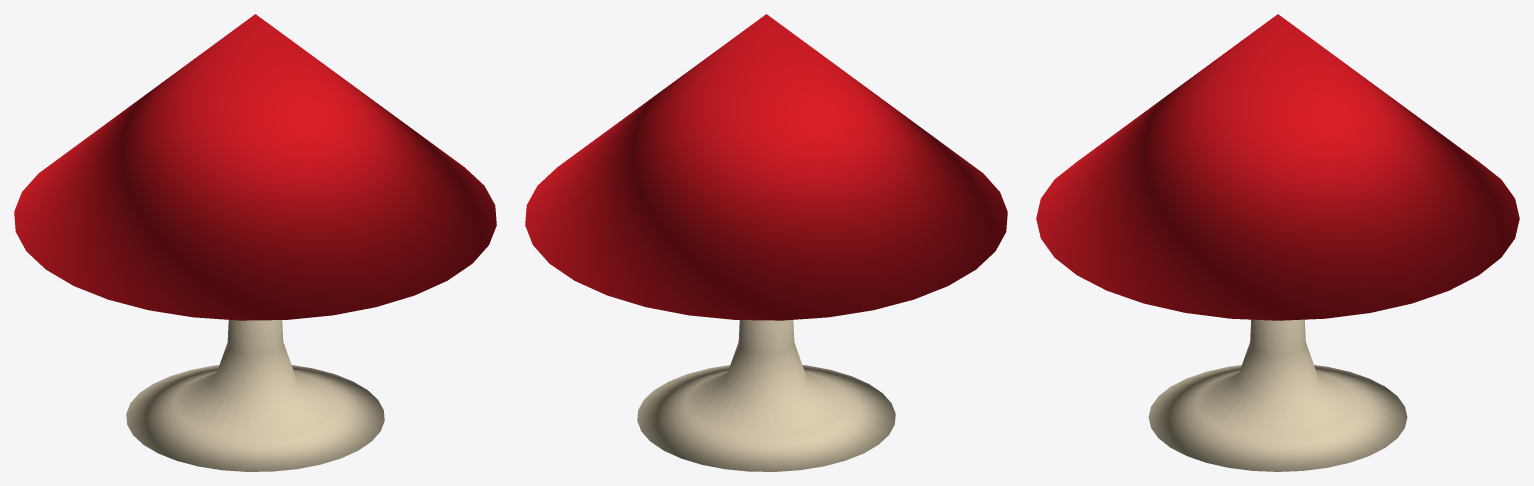
File: champi02.fbx
The picture shows the model from 3 angles, left to right: view 1: azimuth 30°, elevation 25°; view 2: azimuth 150°, elevation 25°; view 3: azimuth 270°, elevation 25°; orthographic projection.
Visible parts, largest first — view 1: Cube; view 2: Cube; view 3: Cube.
Boxes of the visible parts, <box> form: Cube: <box>14,14,496,471</box>; Cube: <box>525,14,1007,471</box>; Cube: <box>1036,14,1519,471</box>.
Bounding box in the file's own units: 222 × 204 × 222.
